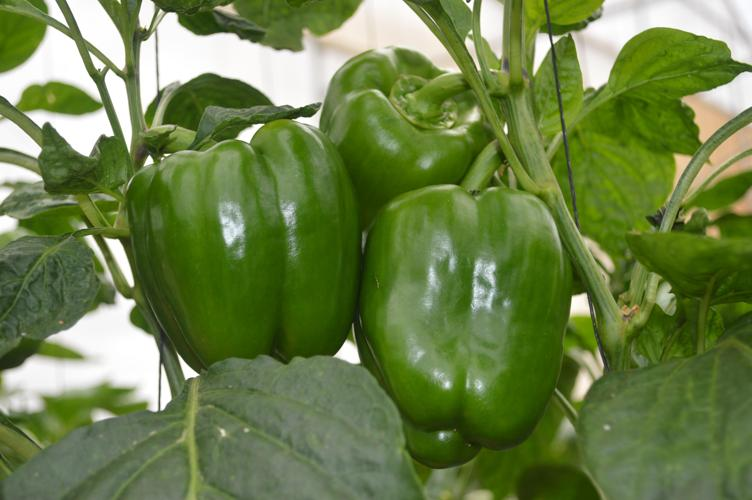BellPepper: (366, 184, 573, 464), (130, 121, 359, 365), (322, 43, 492, 201)
